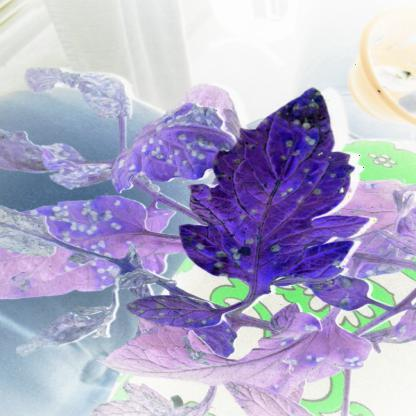tomato septoria leaf spot: (183, 81, 368, 291), (102, 313, 393, 389), (99, 102, 247, 192), (34, 195, 156, 262), (104, 288, 231, 329), (303, 272, 385, 309)
